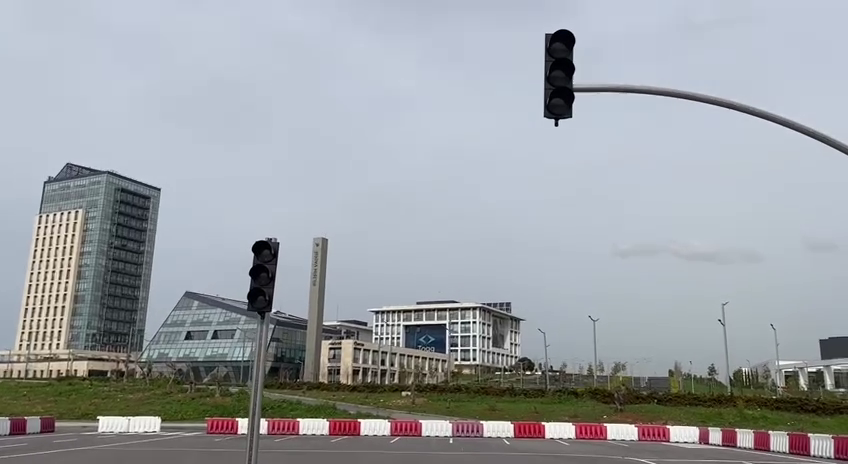trafficLight: (536, 26, 578, 130), (243, 233, 281, 319)
